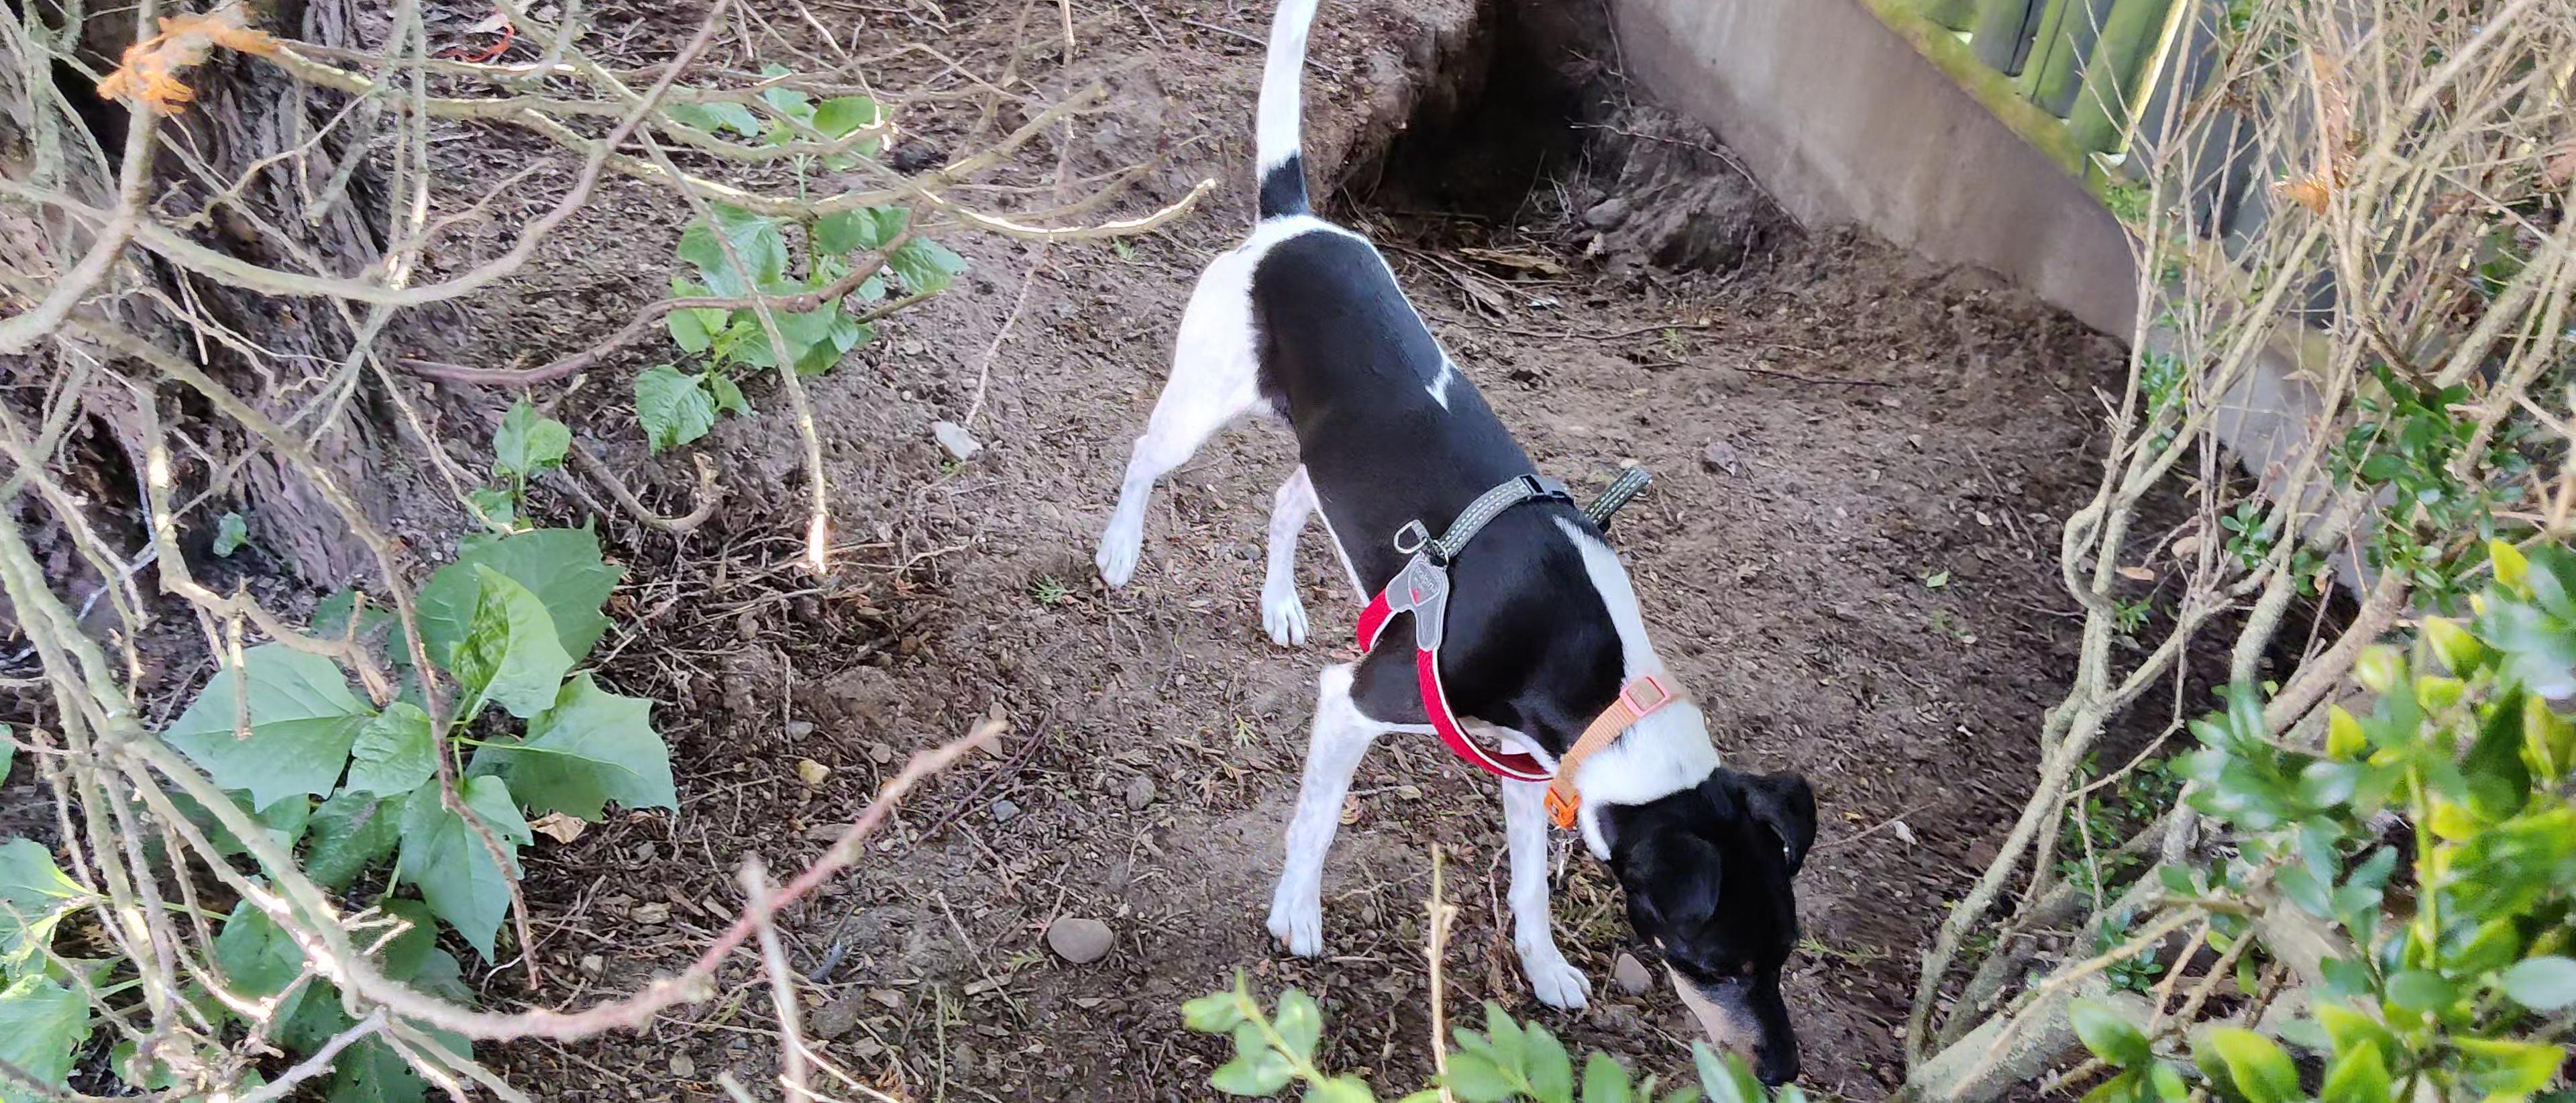Dog: (1083, 0, 1827, 1091)
